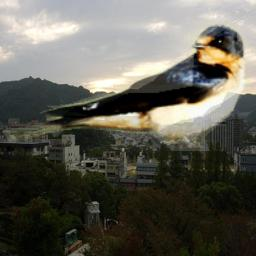Swallow: (3, 23, 249, 151)
